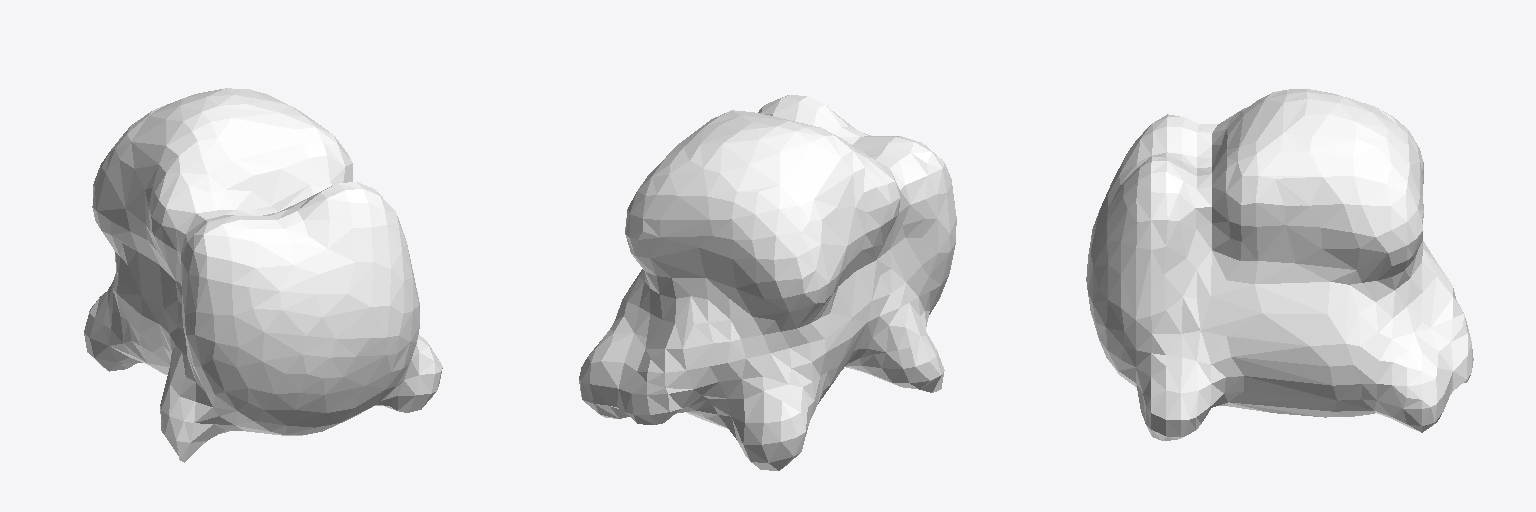
Rendered from gatopan.obj.
3 views of the same model, side by side, from view 1: azimuth 30°, elevation 25°; view 2: azimuth 150°, elevation 25°; view 3: azimuth 270°, elevation 25° (orthographic).
Parts seen in each view (by area): view 1: gatopan:Mesh; view 2: gatopan:Mesh; view 3: gatopan:Mesh.
Boxes of the visible parts, x1,y1,x2,y2 form: gatopan:Mesh: [84, 88, 442, 462]; gatopan:Mesh: [579, 95, 956, 470]; gatopan:Mesh: [1086, 89, 1473, 440].
Size of the model in its own units: 4.93 by 5.18 by 6.24.